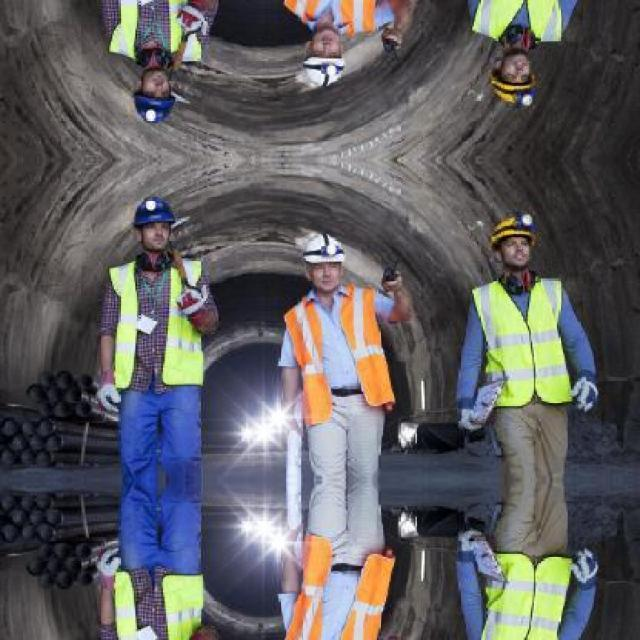reflective_jacket: (92, 250, 223, 400), (275, 281, 398, 426), (460, 270, 583, 415), (463, 0, 589, 52)
safety_helmet: (481, 204, 547, 250), (291, 225, 354, 272), (121, 189, 183, 235)
